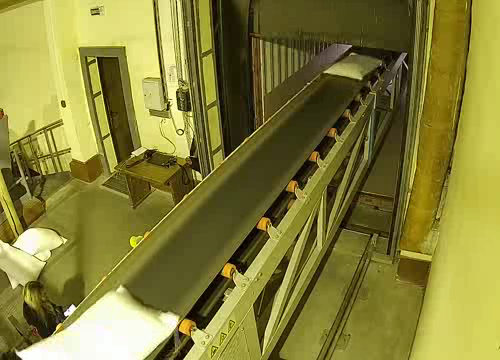bag: (10, 281, 194, 360), (315, 49, 391, 83)
